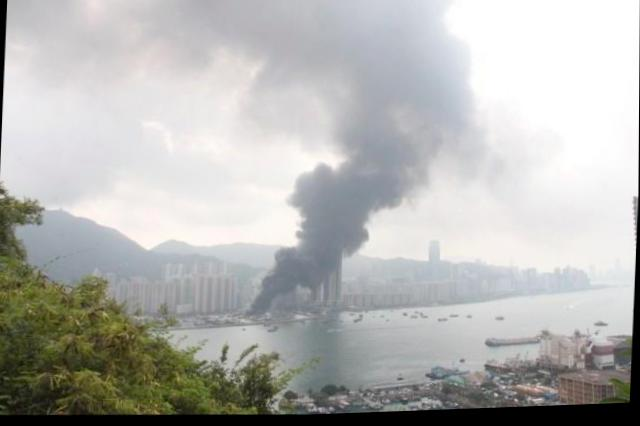smoke: (158, 0, 353, 96), (350, 0, 481, 129), (250, 87, 361, 166), (357, 123, 432, 205), (299, 178, 326, 281), (327, 164, 358, 248), (272, 253, 293, 290), (251, 295, 267, 308)
